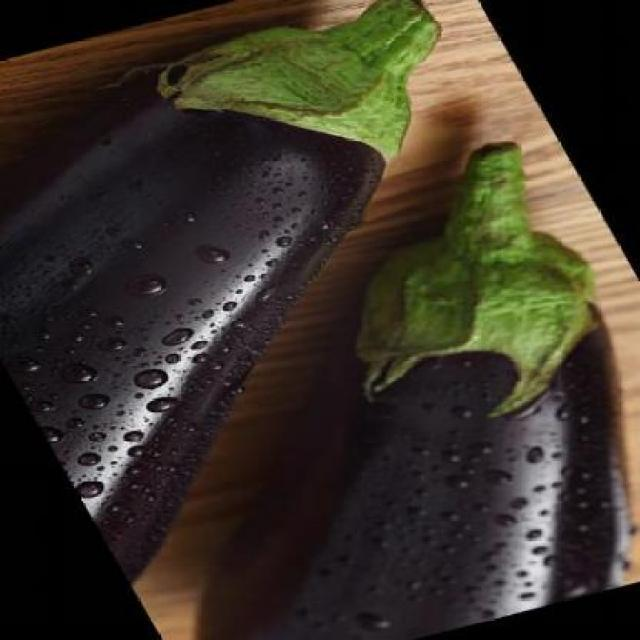eggplant: (1, 1, 445, 575), (187, 136, 639, 640)
